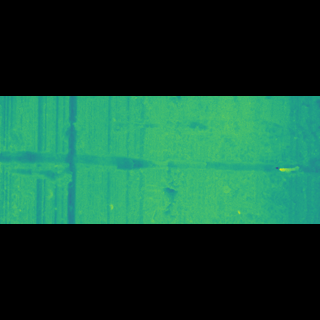Loch: (0, 142, 320, 173), (163, 134, 320, 186)
